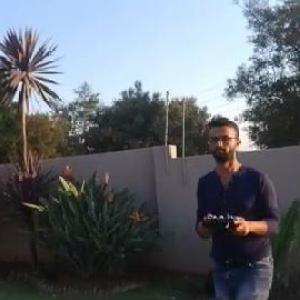follow: (192, 105, 287, 299)
